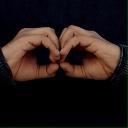hand: (58, 24, 121, 80), (1, 26, 60, 81)
